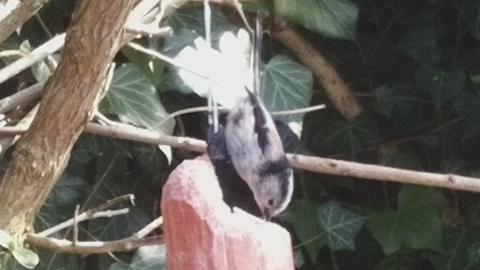long tailed tit: (226, 10, 295, 220)
